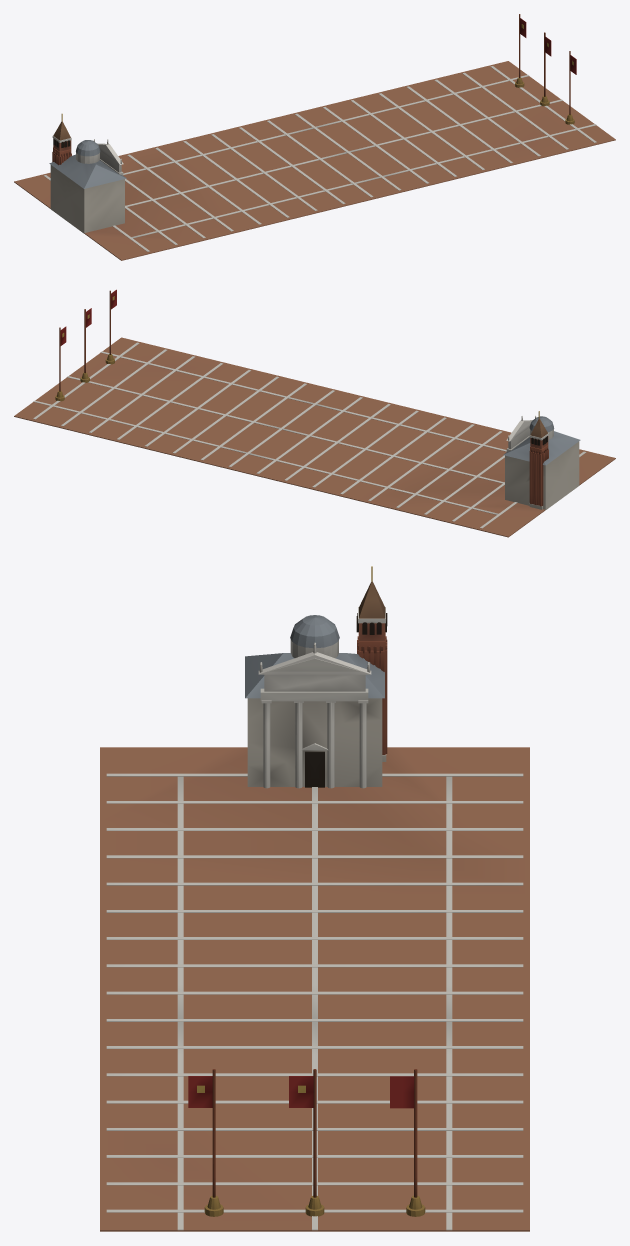
Rendered from piazza-1580.glb.
3 renders of one model, top to bottom at view 1: azimuth 30°, elevation 25°; view 2: azimuth 150°, elevation 25°; view 3: azimuth 270°, elevation 25°, orthographic. The views are drawn at different scales.
Visible parts, largest first — view 1: p0_paving, p1_buildings; view 2: p0_paving, p1_buildings; view 3: p0_paving, p1_buildings.
Part boxes in pixels (left/top/right/bottom): p0_paving: left=14, top=61, right=615, bottom=260; p1_buildings: left=49, top=14, right=576, bottom=233; p0_paving: left=14, top=337, right=615, bottom=537; p1_buildings: left=55, top=289, right=580, bottom=510; p0_paving: left=100, top=747, right=529, bottom=1231; p1_buildings: left=188, top=566, right=425, bottom=1216.
Bounding box in the file's own units: 170 × 31.37 × 64.
